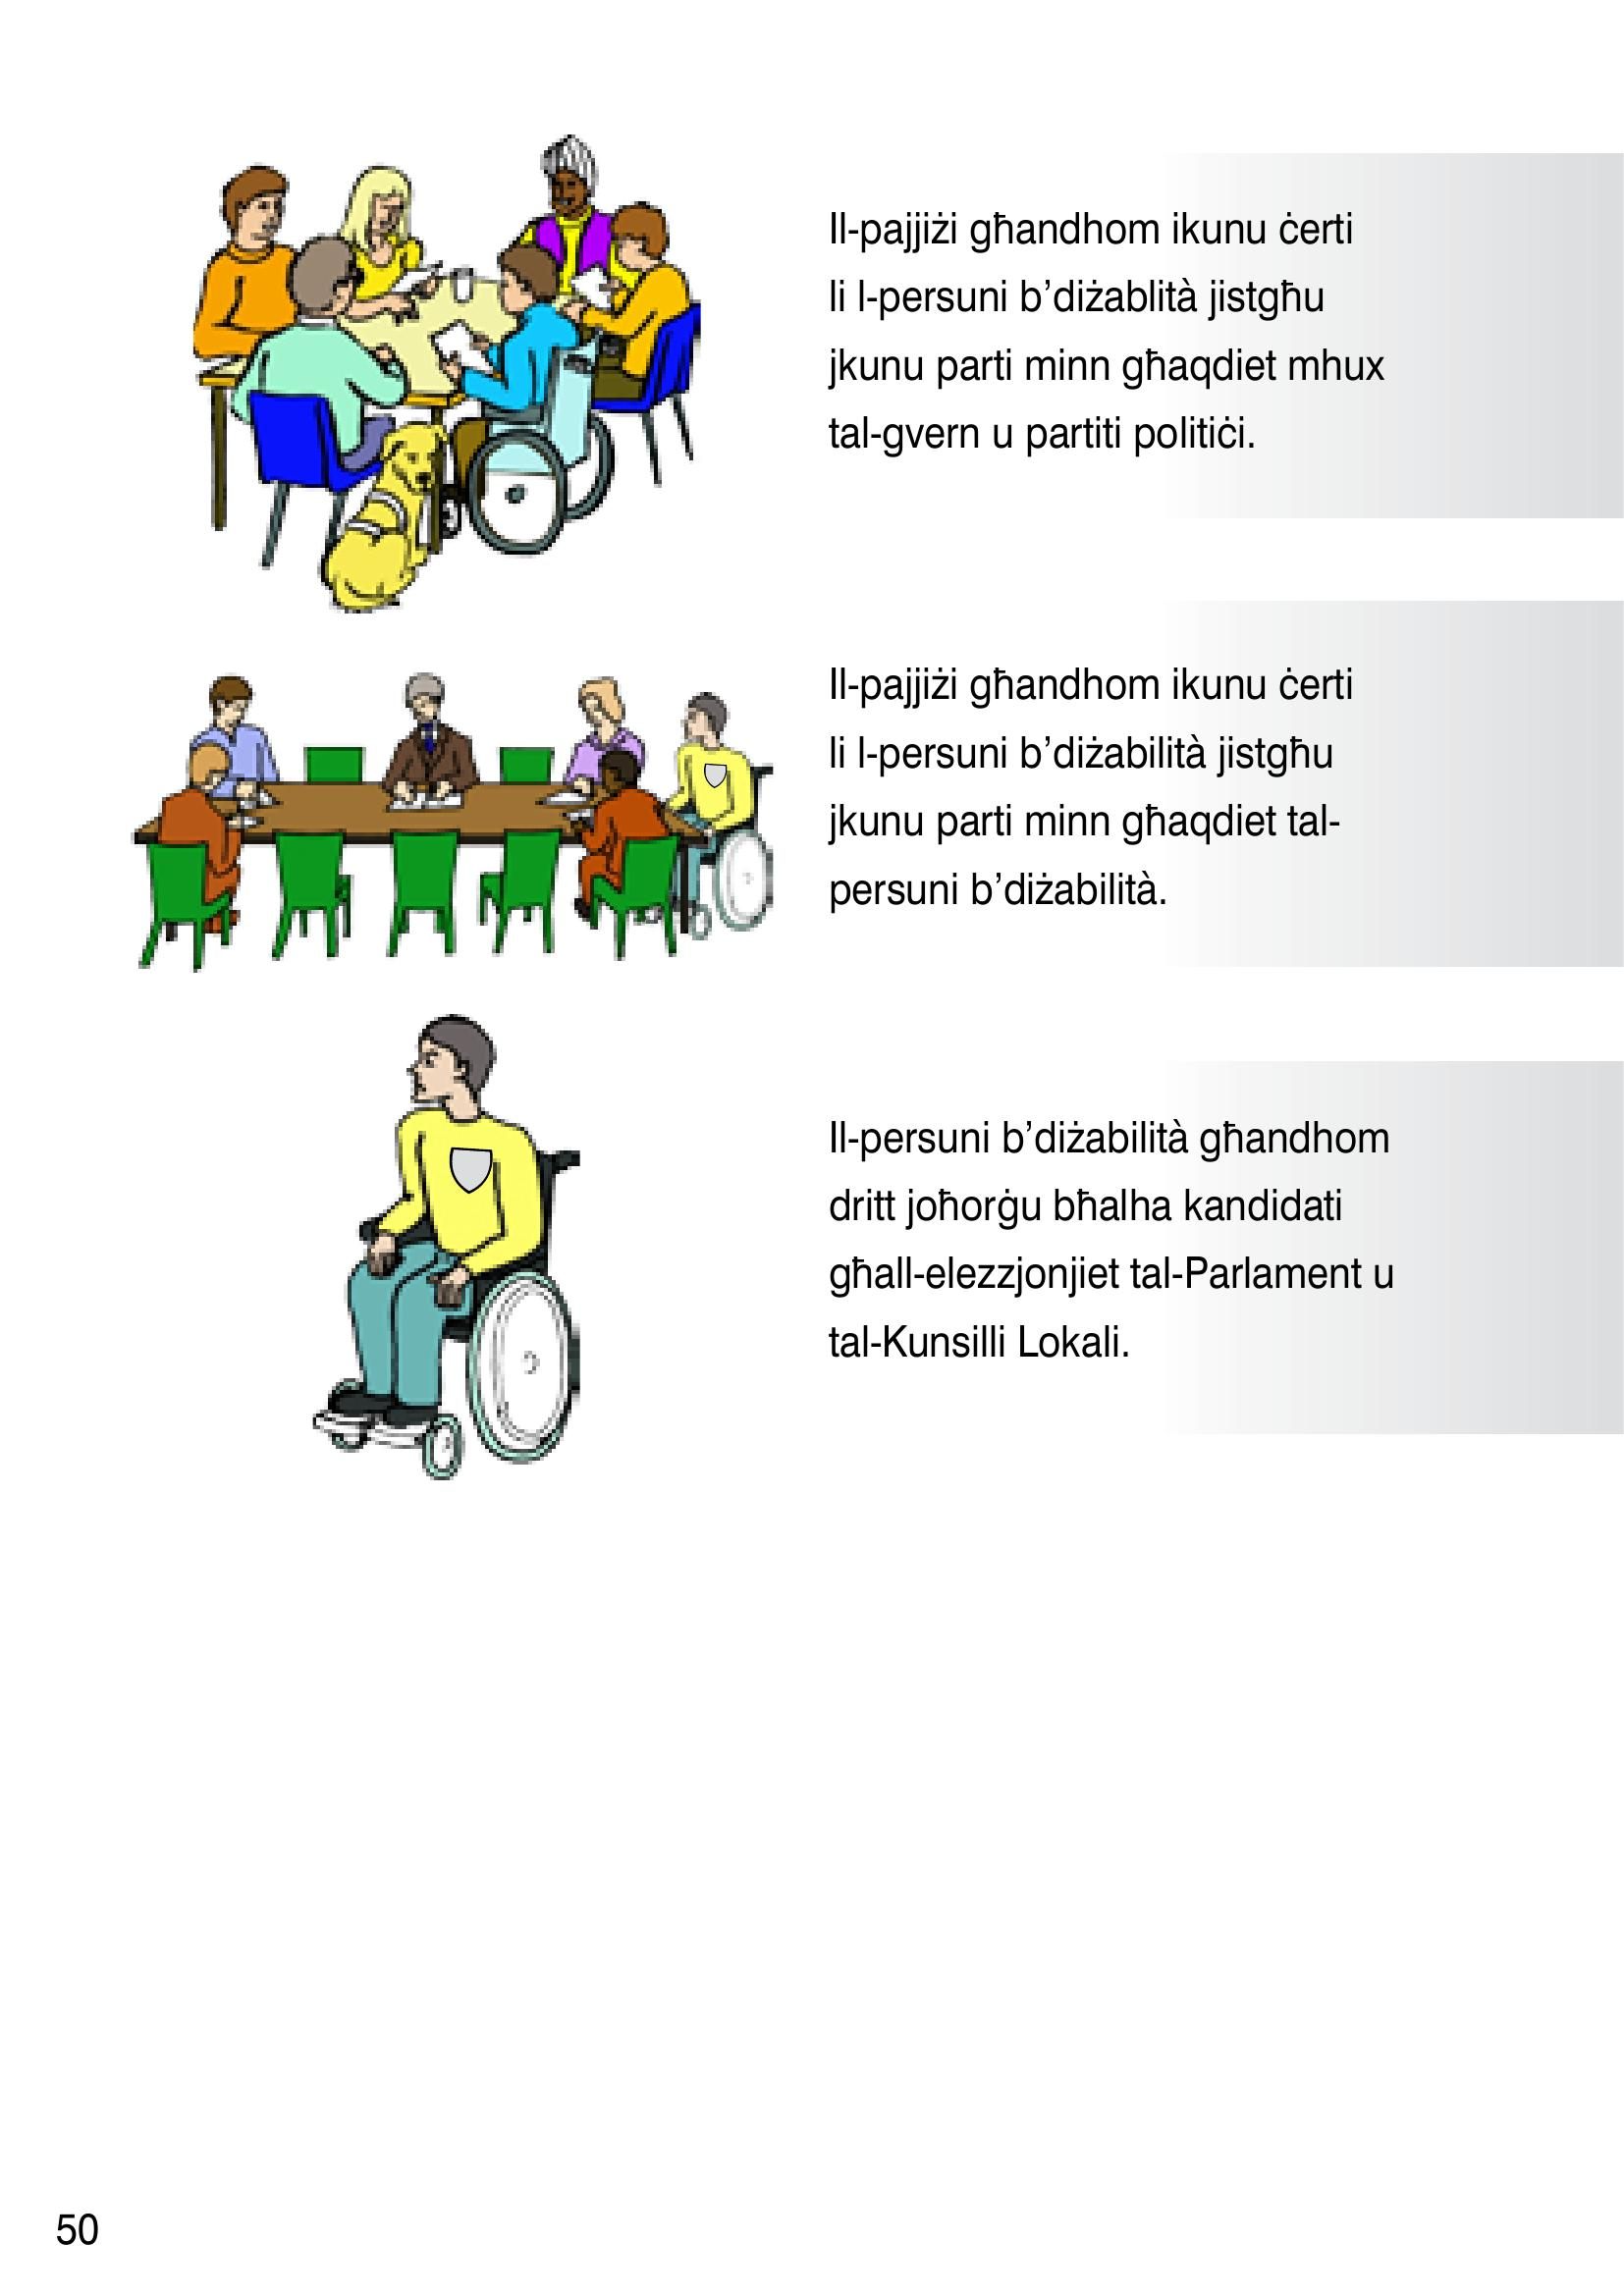text: (796, 179, 1427, 1398)
